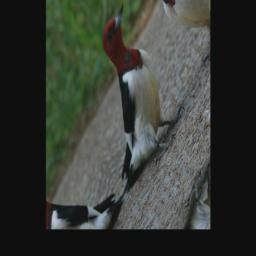Woodpecker: (63, 0, 195, 212)
